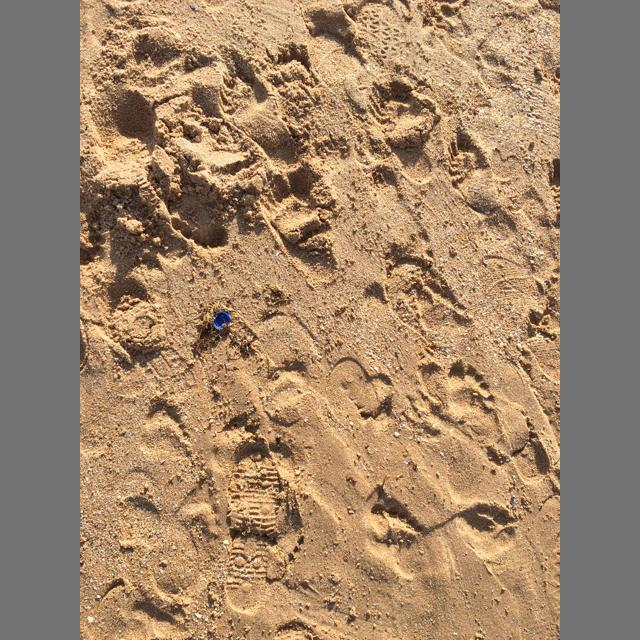litter: (214, 312, 231, 329)
